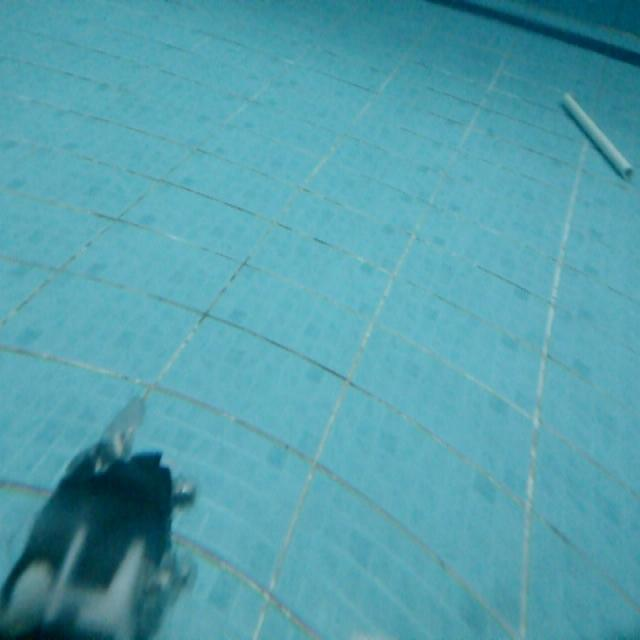Cube: (559, 86, 640, 178)
